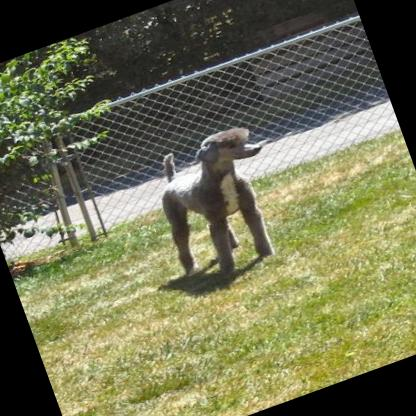standard_poodle: (140, 117, 299, 290)
